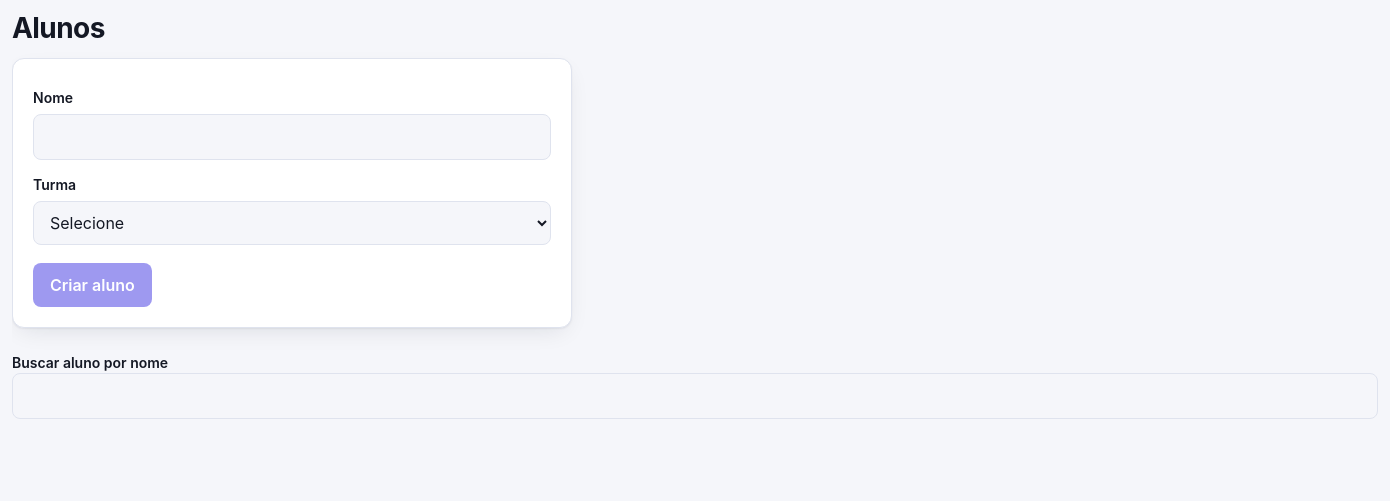
AlunosCadastroPage › shows the 409 message at the top and the 422 message next to the field
Type "Pedro Alves" into the field labelled "Nome" at (292, 137), box [33,114,551,160]
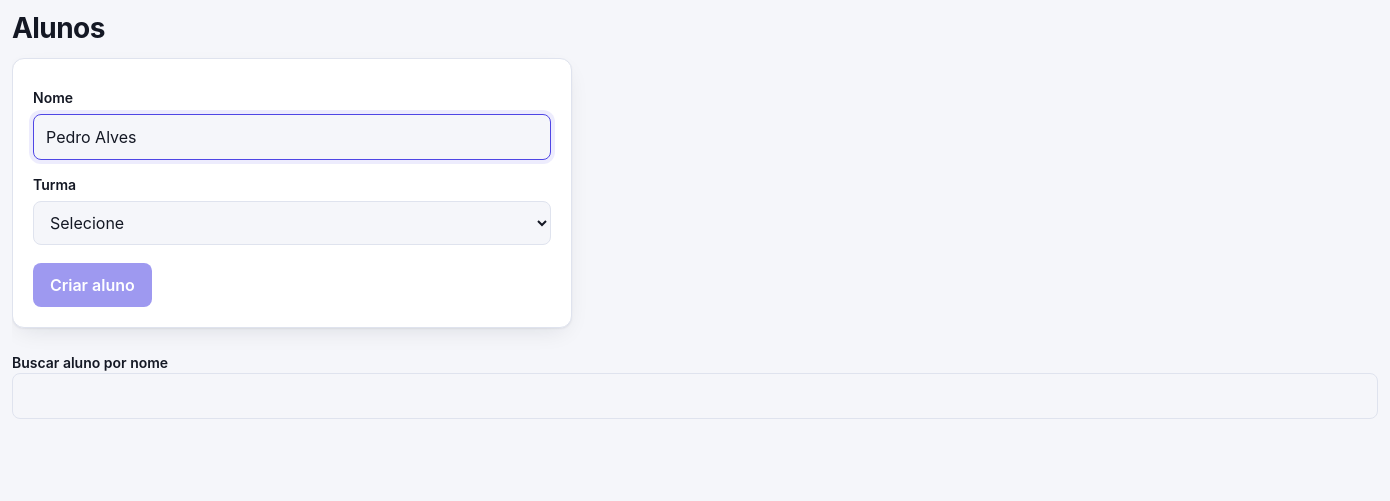
Select "Turma A" in the dropdown labelled "Turma" at (292, 223), box [33,201,551,245]
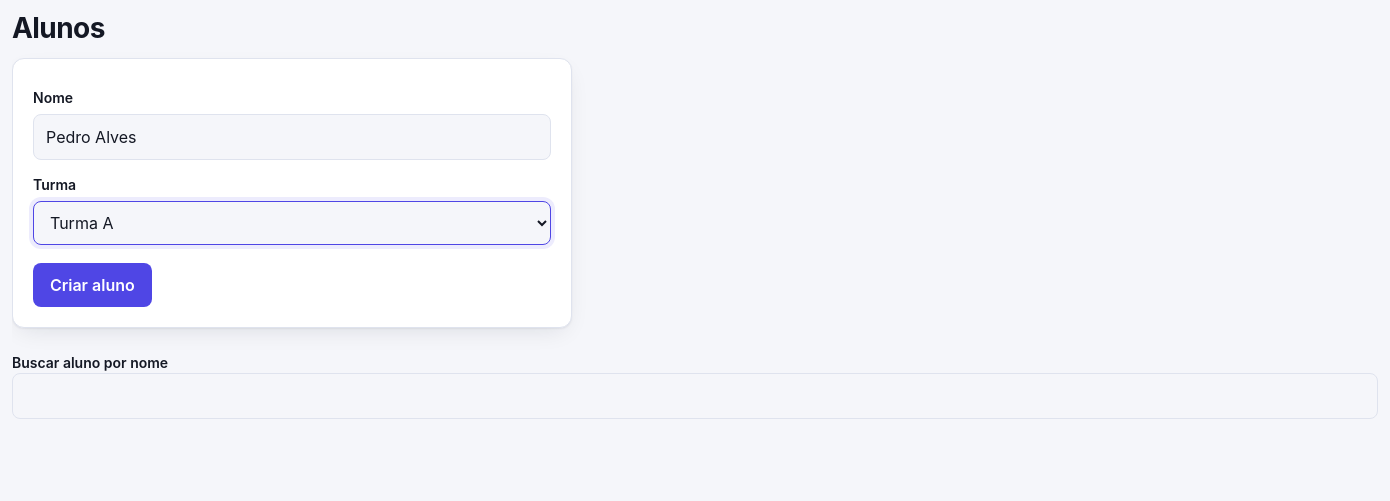
Click the button "Criar aluno" at (92, 285), box [33,263,152,307]
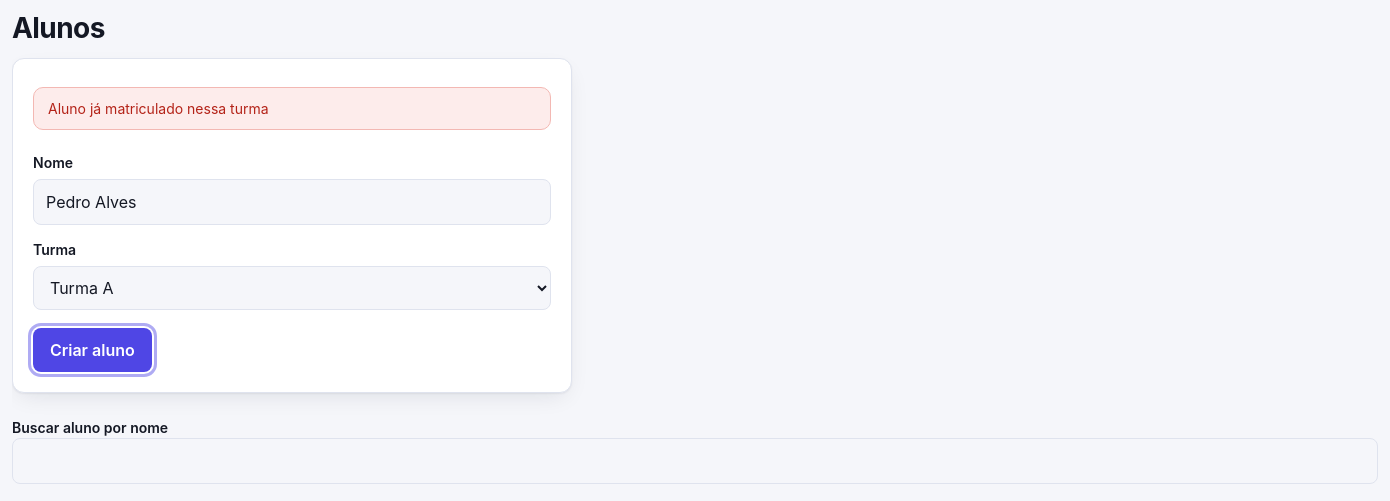
Result: the message reads "Aluno já matriculado nessa turma" at [48,100,268,117]
Click the button "Criar aluno" at (92, 350), box [33,328,152,372]
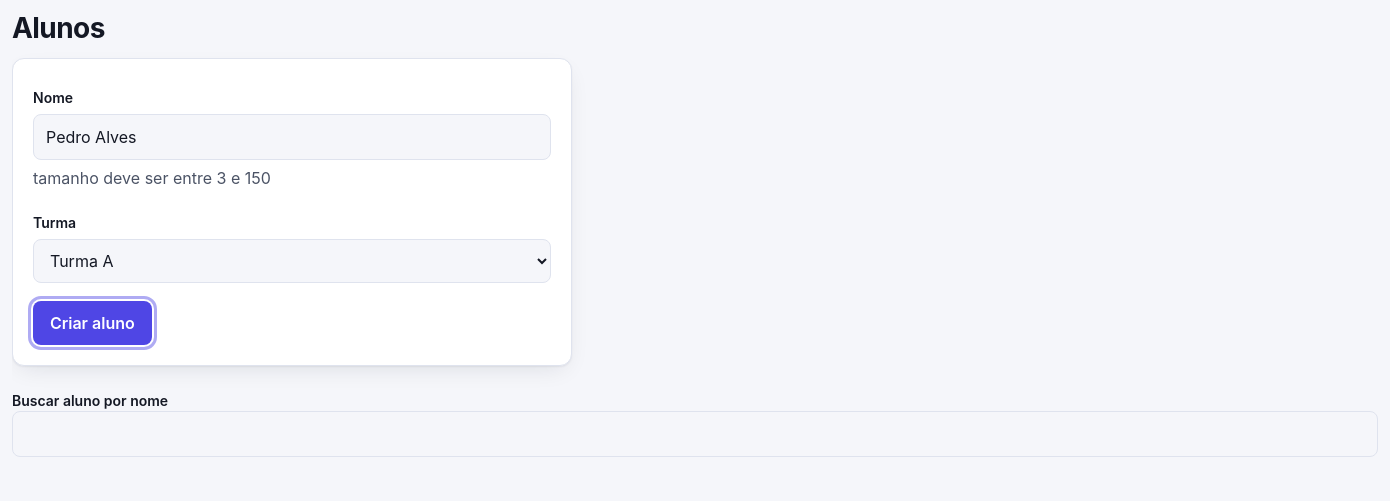
Result: the text "tamanho deve ser entre 3 e 150" is shown at [33,168,271,188]
